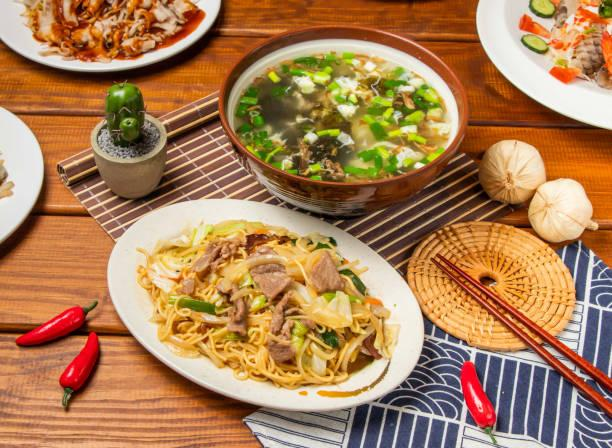Braised Crucian Carp: (109, 198, 423, 412), (219, 25, 463, 214)
